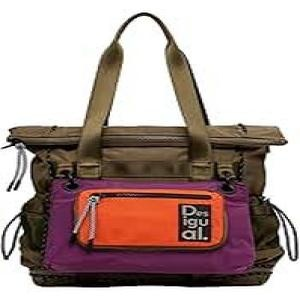desigual: (126, 97, 300, 300)
